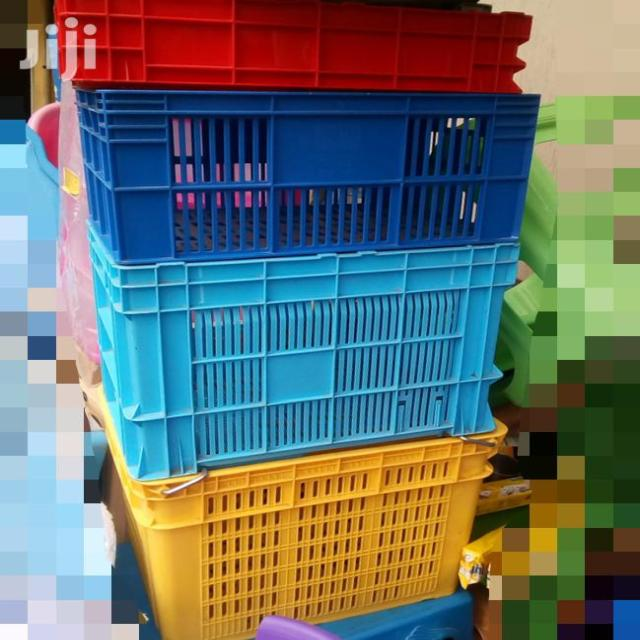basket: (84, 233, 519, 489), (88, 398, 506, 640), (76, 89, 539, 267)
